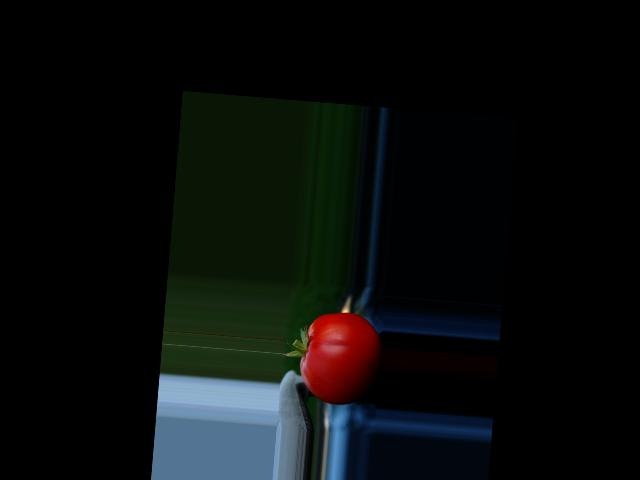tomato: (297, 308, 385, 407)
